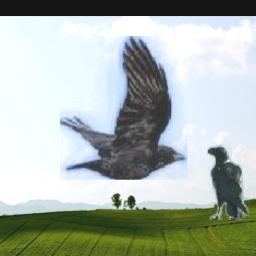Crow: (59, 37, 186, 181), (206, 146, 248, 221)
